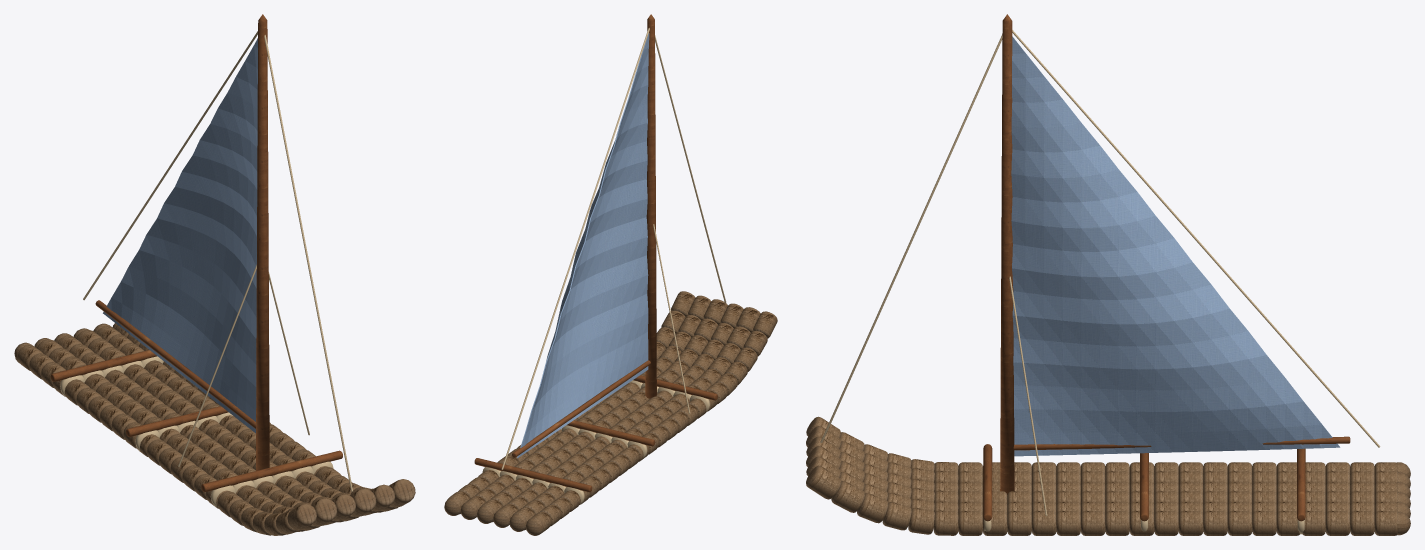
Rendered from jangada.glb.
3 views of the same model, side by side, from view 1: azimuth 30°, elevation 25°; view 2: azimuth 150°, elevation 25°; view 3: azimuth 270°, elevation 25° (orthographic). The views are drawn at different scales.
Parts seen in each view (by area): view 1: jangada; view 2: jangada; view 3: jangada.
Boxes of the visible parts, x1,y1,x2,y2 form: jangada: (14, 14, 415, 535); jangada: (444, 14, 777, 535); jangada: (806, 14, 1410, 535).
Size of the model in its own units: 1.7 by 5.59 by 6.18.
4 materials, 3 textured.
